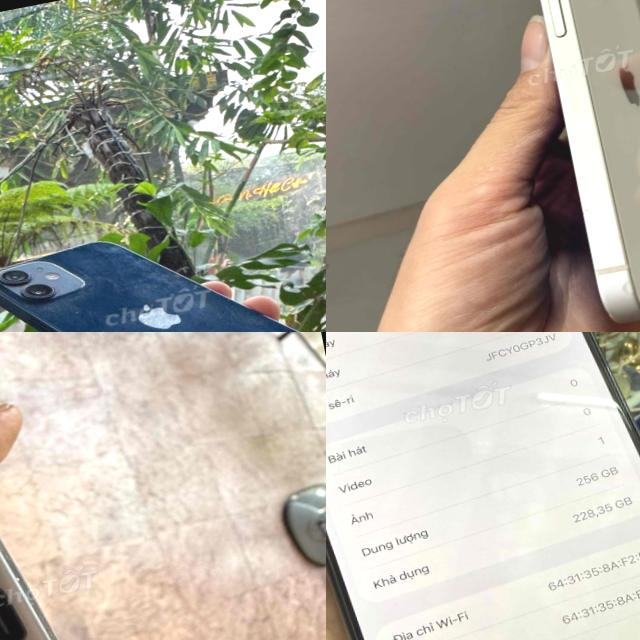gen_12_13: (0, 188, 326, 332), (511, 0, 640, 328)
gen_17: (326, 332, 640, 640), (0, 361, 166, 640)
